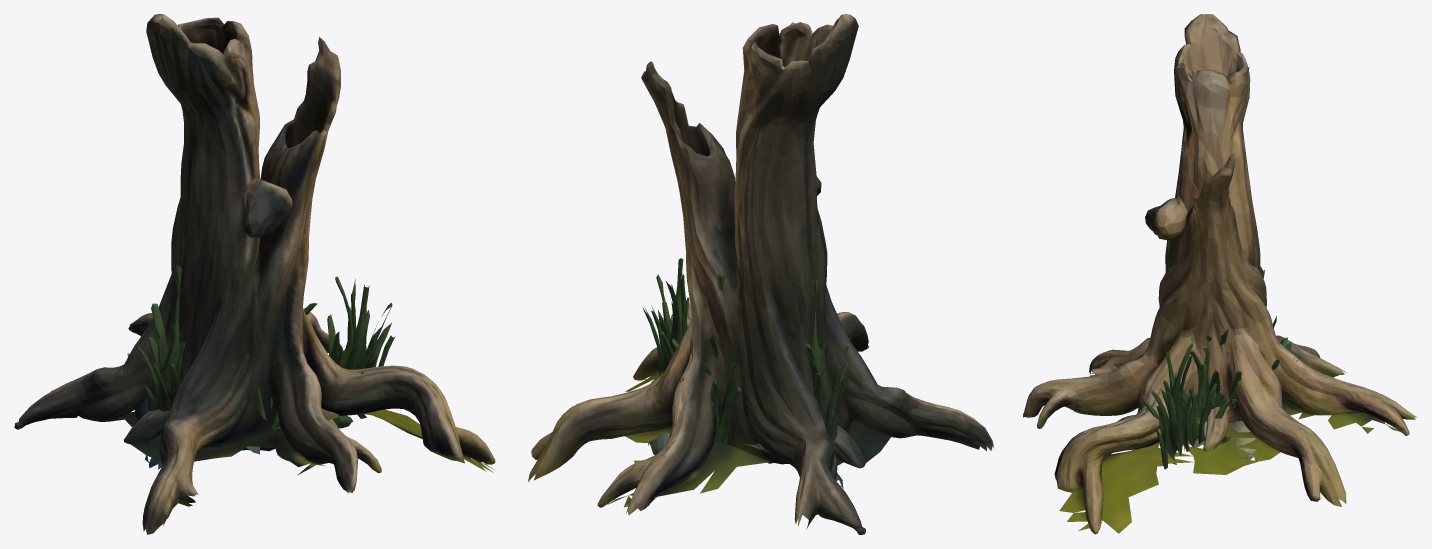
The model's file is kit_terrain3.glb.
3 renders of one model, left to right at view 1: azimuth 30°, elevation 25°; view 2: azimuth 150°, elevation 25°; view 3: azimuth 270°, elevation 25°, orthographic. The views are drawn at different scales.
Visible parts, largest first — view 1: oak_0, plant_1, plant_6; view 2: oak_0, plant_6, plant_1, plant_5; view 3: oak_0, plant_1, plant_5, plant_6.
Boxes of the visible parts, x1,y1,x2,y2 form: oak_0: (14,14,495,534); plant_1: (134,276,394,469); plant_6: (138,265,338,420); oak_0: (528,14,994,534); plant_6: (648,280,849,454); plant_1: (642,258,843,488); plant_5: (671,274,743,447); oak_0: (1023,14,1417,534); plant_1: (1141,343,1236,469); plant_5: (1117,264,1300,421); plant_6: (1187,404,1258,460).
Size of the model in its own units: 26.07 by 33.16 by 29.05.
Materials: 1 (1 with a texture image).
